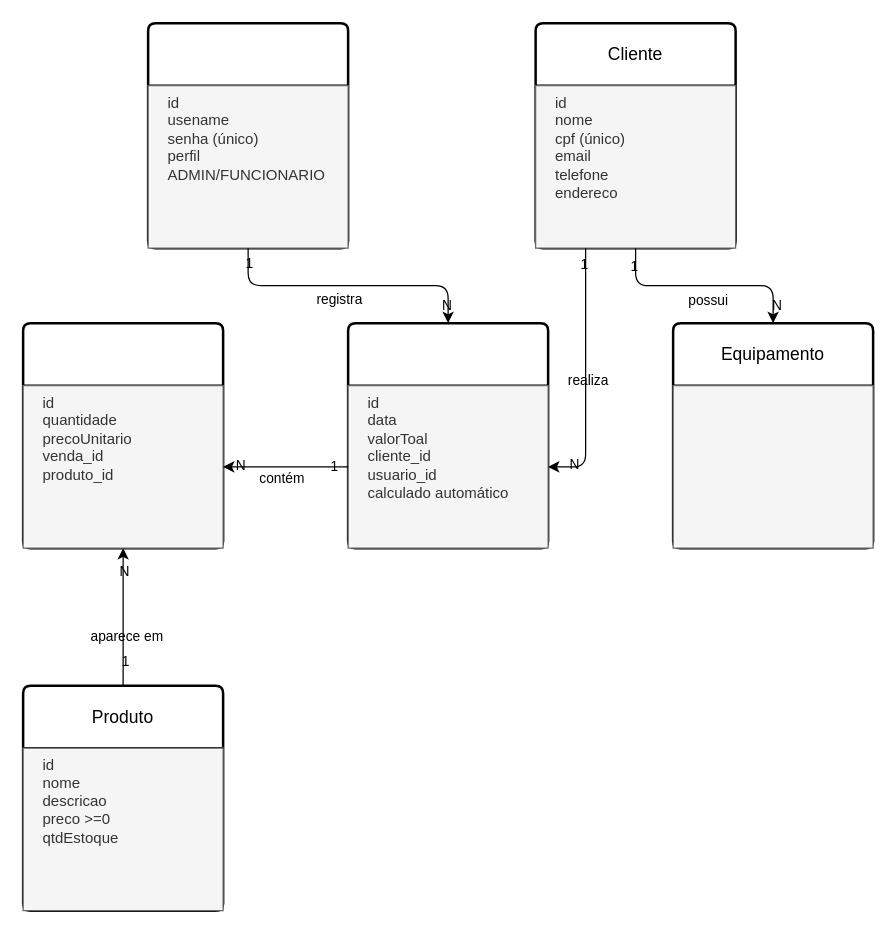
Image size: 895x933. Some labels were removed from this diagram. The box of each missing label's shape, as (x1, y1, x2, y2) in pixels:
id tipo marca modelo numSerie observacao: (672, 384, 873, 548)
ItemVenda: (21, 321, 224, 549)
Usuario: (146, 21, 349, 249)
Venda: (346, 321, 549, 549)
